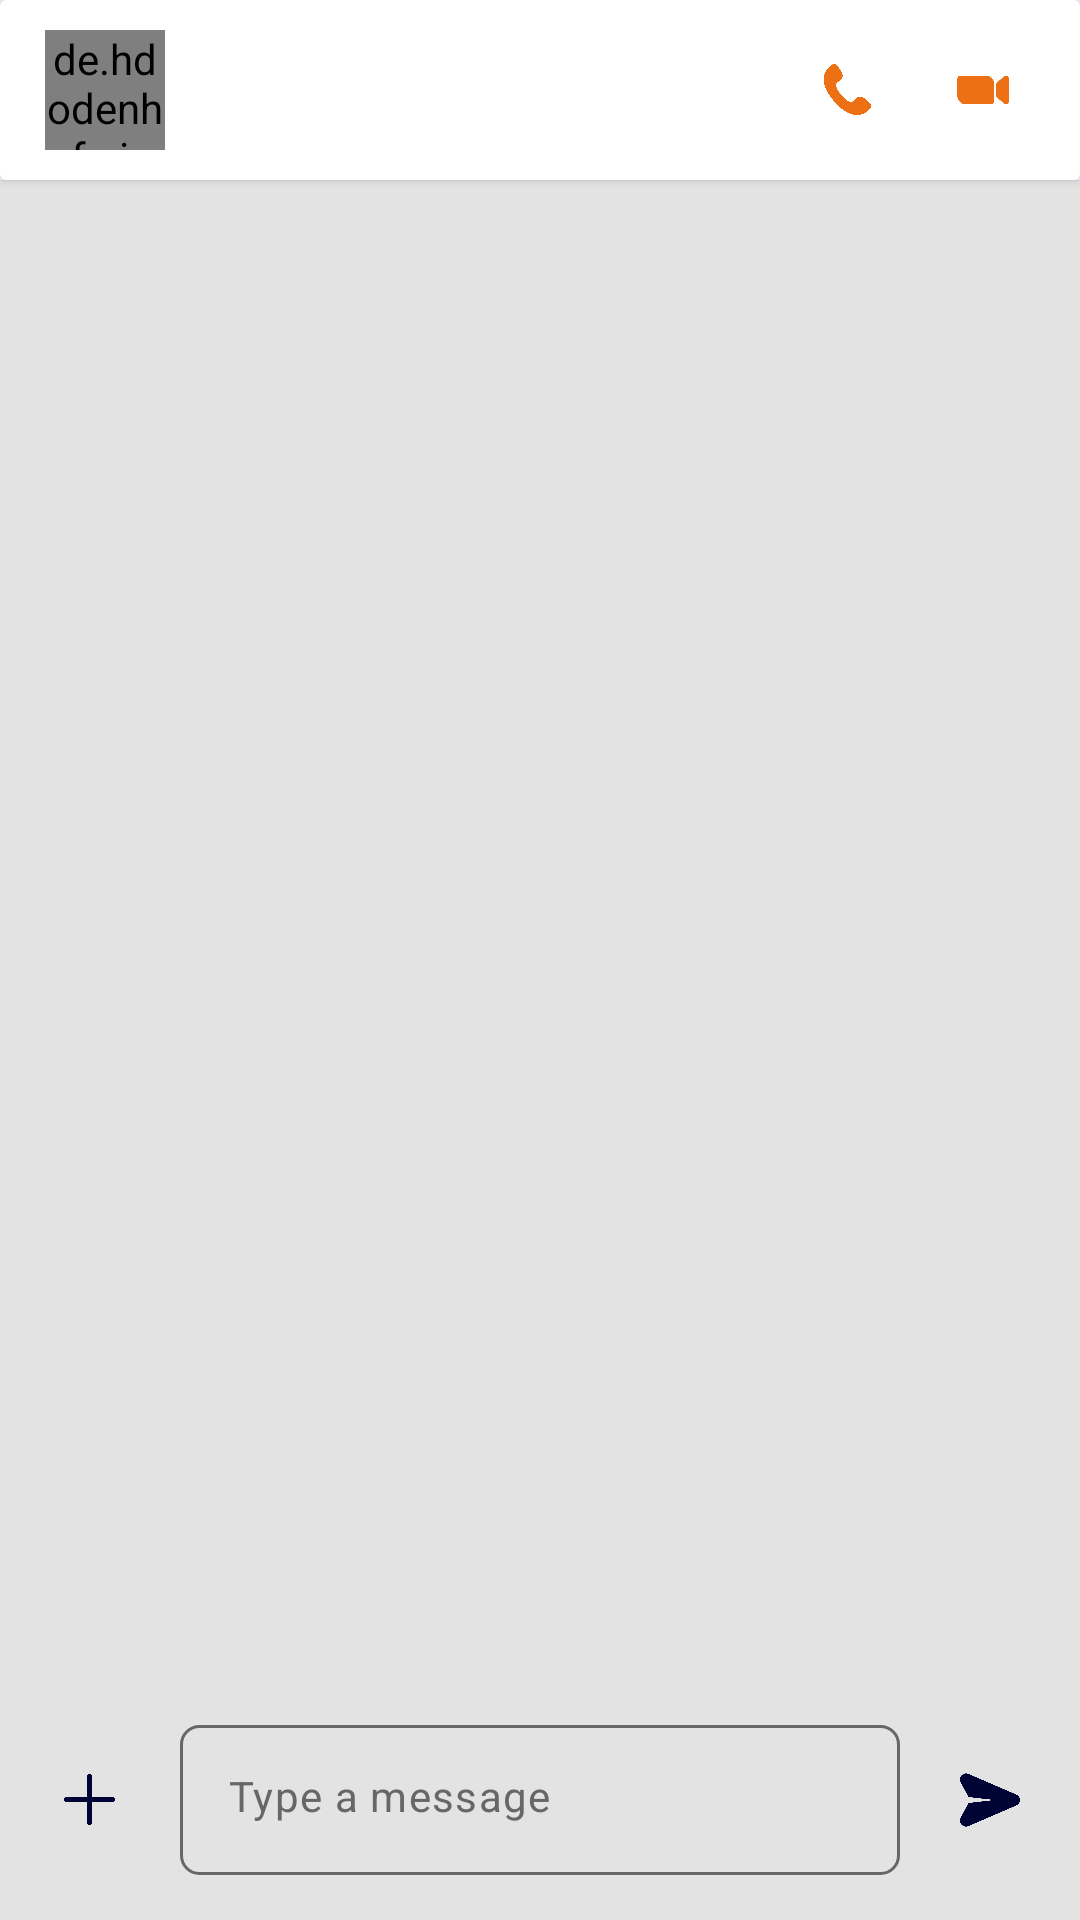

Icons on this 1080 × 1920 Android screen, each with the point to tap as (x=x, y=y):
add: (x=89, y=1799)
send: (x=990, y=1800)
video call: (x=983, y=90)
voice call: (x=847, y=89)
